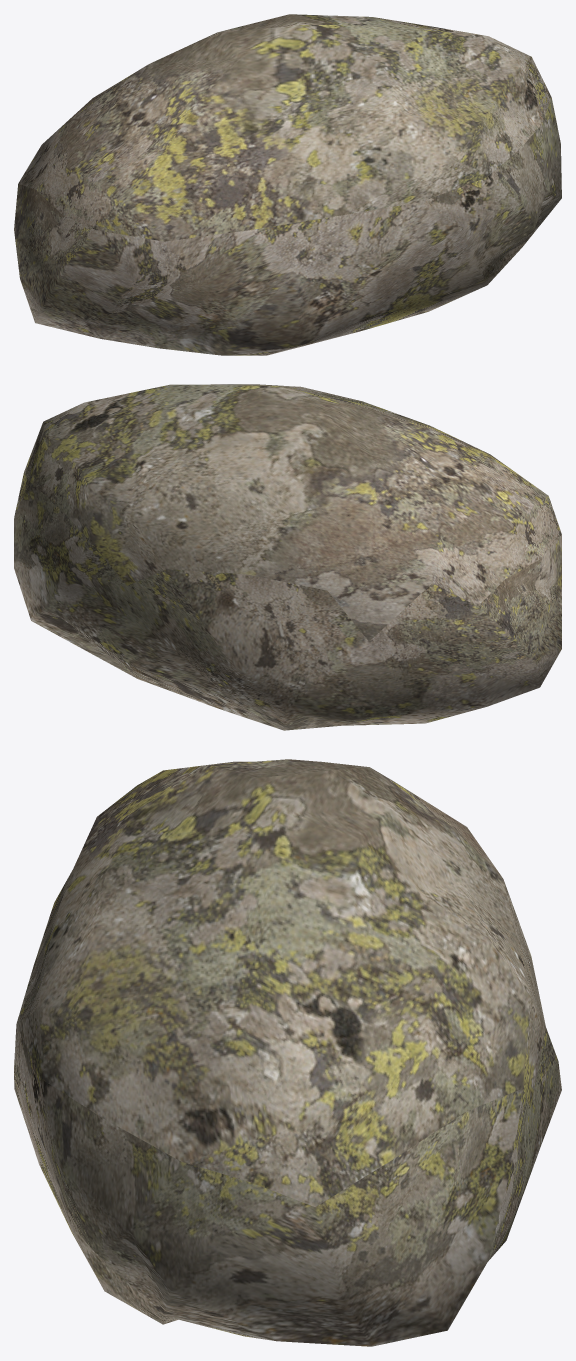
The model's file is Rock_Large.fbx.
3 views of the same model, one above another, from view 1: azimuth 30°, elevation 25°; view 2: azimuth 150°, elevation 25°; view 3: azimuth 270°, elevation 25° (orthographic). The views are drawn at different scales.
Visible parts, largest first — view 1: Rock_Large; view 2: Rock_Large; view 3: Rock_Large.
Part boxes in pixels (x1,y1,x2,y2): Rock_Large: (14,14,561,355); Rock_Large: (14,384,561,730); Rock_Large: (14,759,561,1346).
Size of the model in its own units: 275 by 141 by 165.
1 material, 1 textured.
